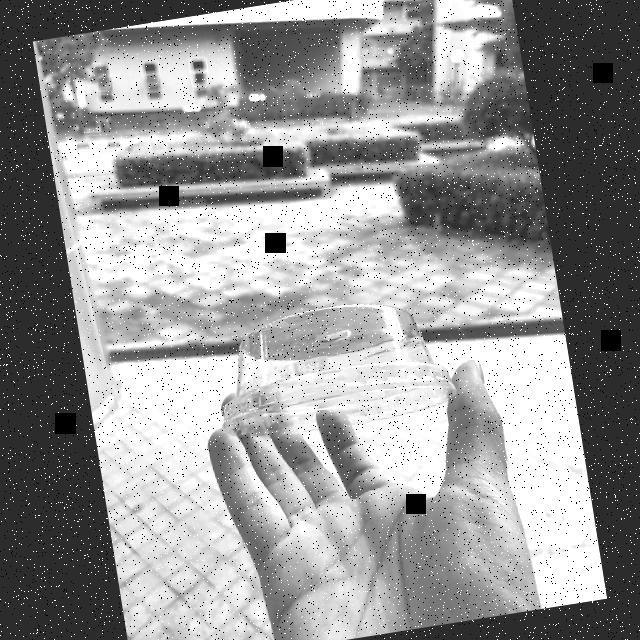plastic_cup_lid: (209, 284, 463, 454)
